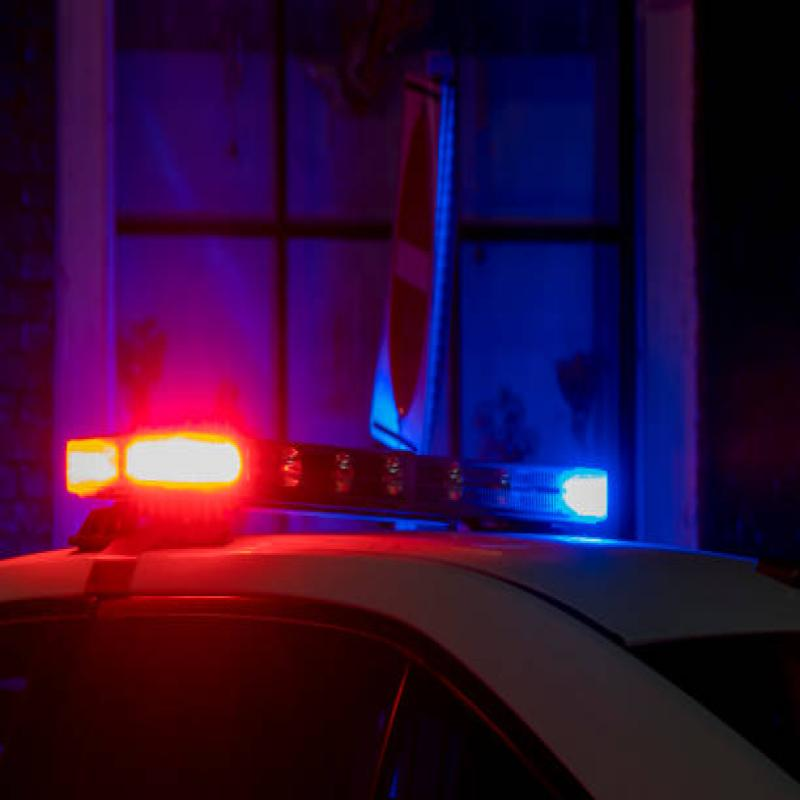AmbulanceSiren: (48, 371, 628, 552)
